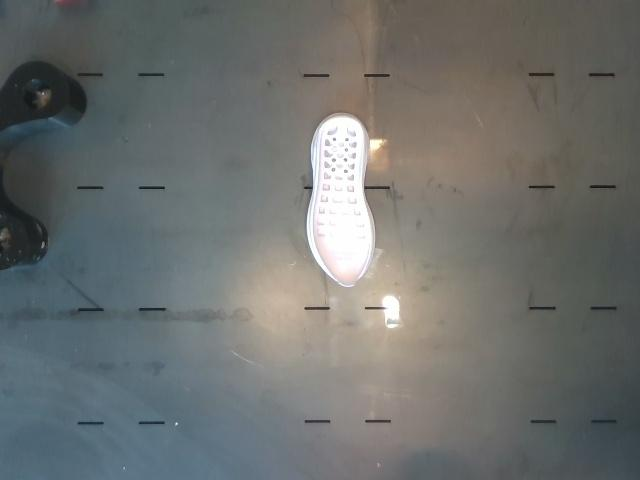shoes: (313, 118, 370, 286)
